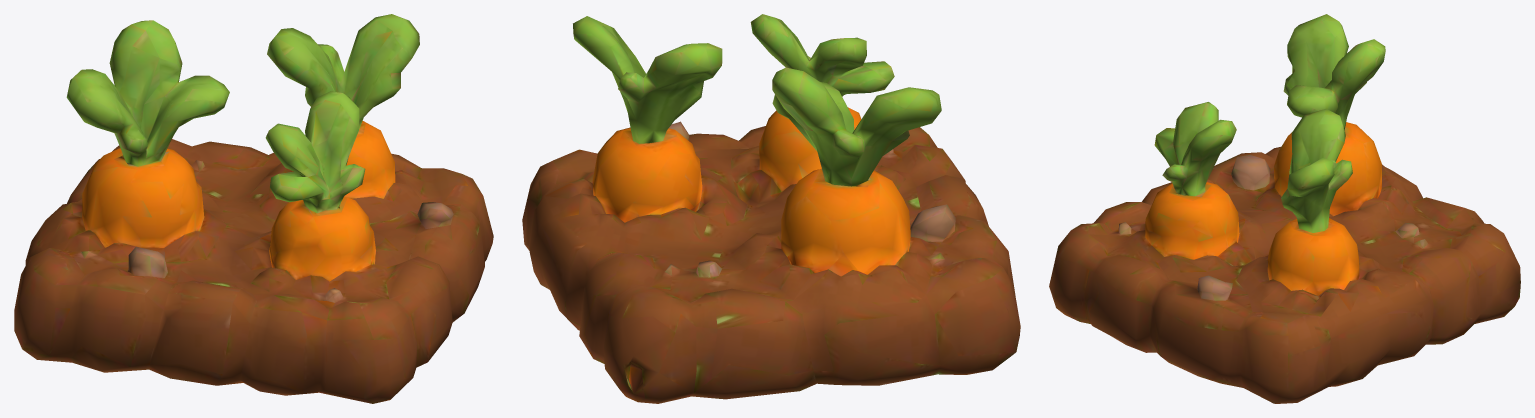
The picture shows the model from 3 angles, left to right: view 1: azimuth 30°, elevation 25°; view 2: azimuth 150°, elevation 25°; view 3: azimuth 270°, elevation 25°; orthographic projection. The views are drawn at different scales.
Parts seen in each view (by area): view 1: carrots-growing; view 2: carrots-growing; view 3: carrots-growing.
Boxes of the visible parts, bbox=[...] form: carrots-growing: bbox=[14, 14, 493, 403]; carrots-growing: bbox=[522, 14, 1020, 403]; carrots-growing: bbox=[1049, 14, 1520, 403].
Size of the model in its own units: 0.7998 by 0.4541 by 0.8002.
Materials: 1 (1 with a texture image).
